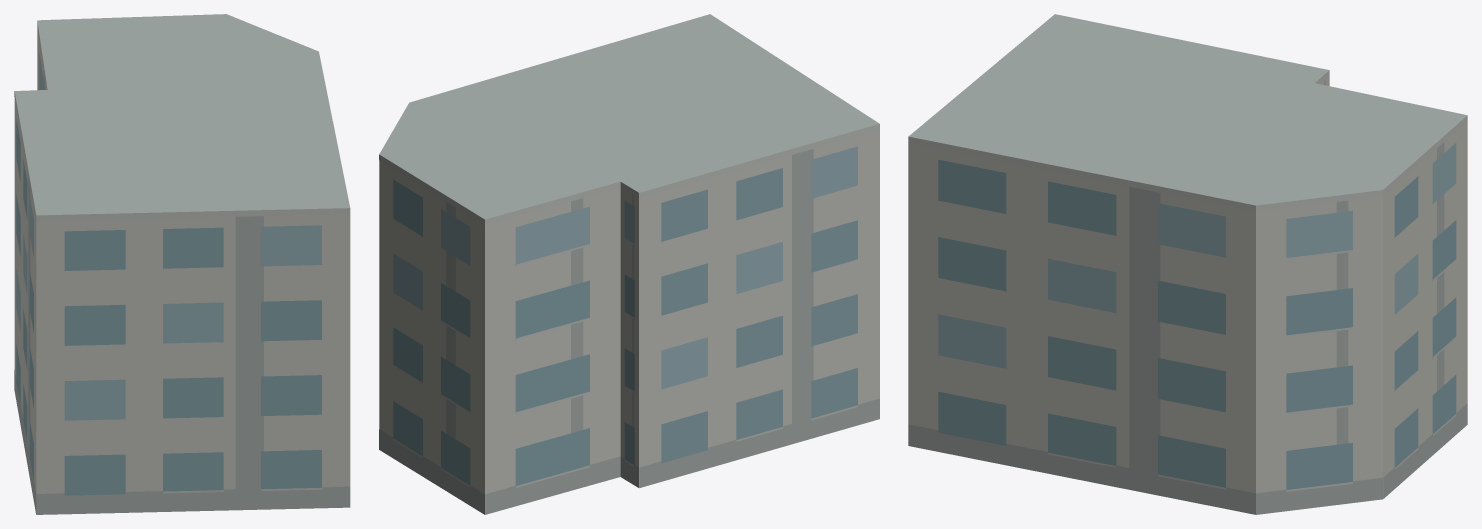
The model's file is residential-39af1812-1234-41e9-a8af-b6858afbea47.glb.
3 views of the same model, side by side, from view 1: azimuth 30°, elevation 25°; view 2: azimuth 150°, elevation 25°; view 3: azimuth 270°, elevation 25° (orthographic). The views are drawn at different scales.
Visible parts, largest first — view 1: residential-39af1812-1234-41e9-a8af-b6858afbea47.tmp; view 2: residential-39af1812-1234-41e9-a8af-b6858afbea47.tmp; view 3: residential-39af1812-1234-41e9-a8af-b6858afbea47.tmp.
Boxes of the visible parts, x1,y1,x2,y2 form: residential-39af1812-1234-41e9-a8af-b6858afbea47.tmp: [14, 14, 350, 514]; residential-39af1812-1234-41e9-a8af-b6858afbea47.tmp: [379, 14, 879, 514]; residential-39af1812-1234-41e9-a8af-b6858afbea47.tmp: [908, 14, 1467, 514].
Size of the model in its own units: 15.94 by 12 by 19.67.
